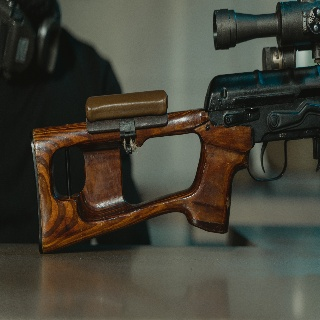rifle: (30, 1, 320, 255)
